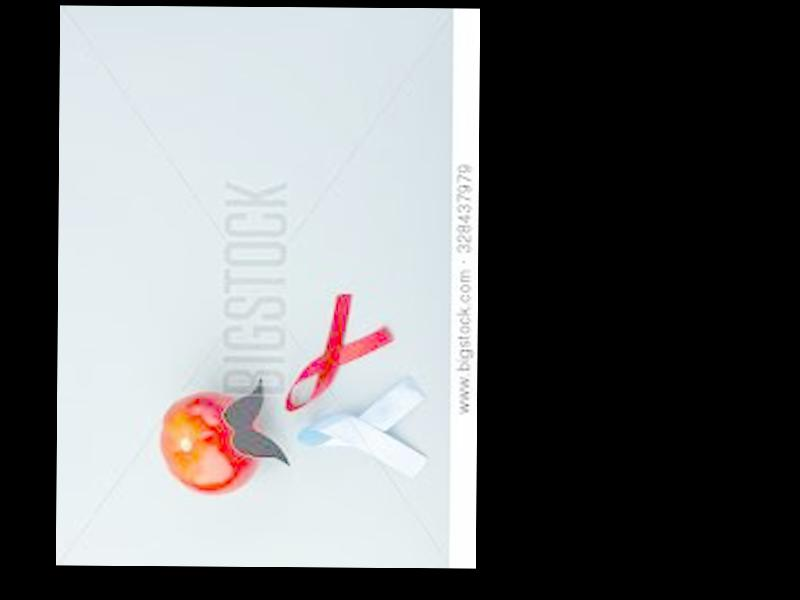Tomato: (158, 391, 261, 495)
